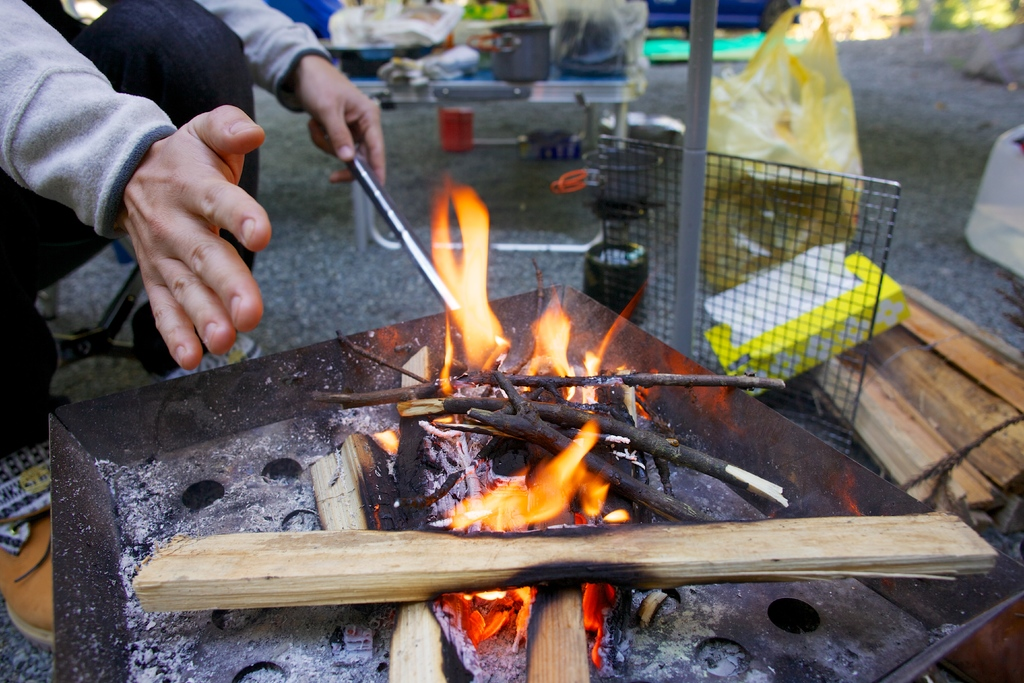Person: (0, 0, 386, 461)
